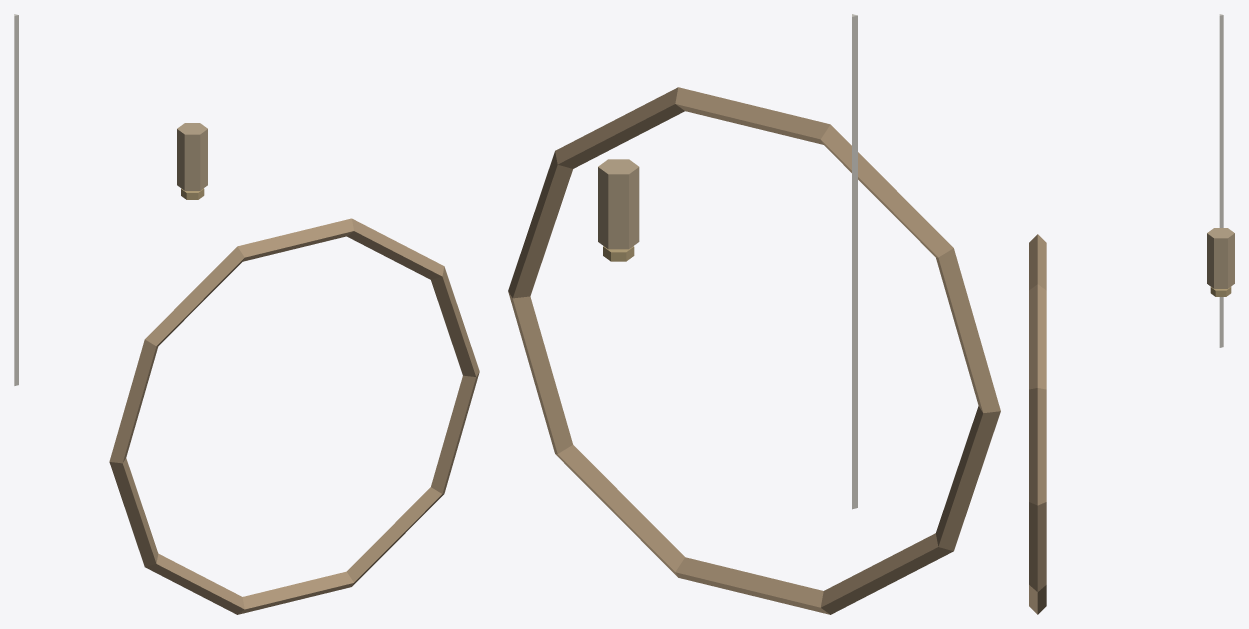
Rendered from stillbow.glb.
3 views of the same model, side by side, from view 1: azimuth 30°, elevation 25°; view 2: azimuth 150°, elevation 25°; view 3: azimuth 270°, elevation 25° (orthographic). The views are drawn at different scales.
Parts seen in each view (by area): view 1: stillbow; view 2: stillbow; view 3: stillbow.
Part boxes in pixels (x1,y1,x2,y2): stillbow: (14,14,479,614); stillbow: (508,14,1000,614); stillbow: (1029,14,1234,614).
Size of the model in its own units: 1.1 by 1.57 by 0.59.
